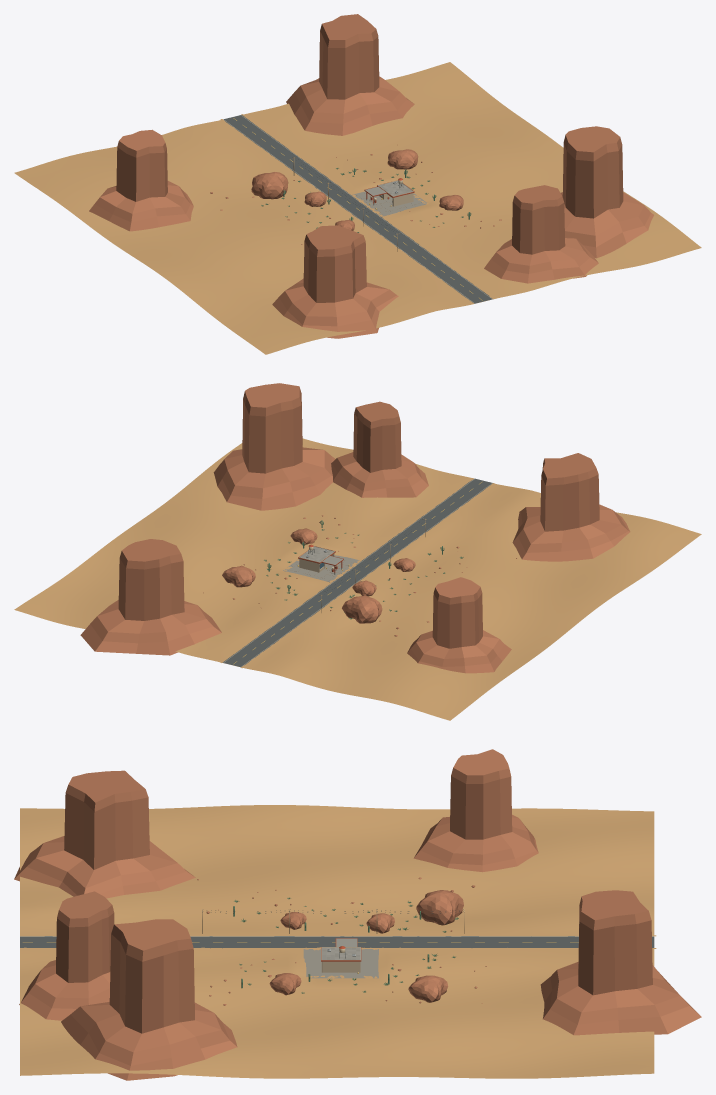
The model's file is station-study.fbx.
3 renders of one model, top to bottom at view 1: azimuth 30°, elevation 25°; view 2: azimuth 150°, elevation 25°; view 3: azimuth 270°, elevation 25°, orthographic. The views are drawn at different scales.
Visible parts, largest first — view 1: GEO-sand_ground, GEO-sandstone_formation.009, GEO-sandstone_formation.005, GEO-sandstone_formation.007, GEO-sandstone_formation.006, GEO-sandstone_formation.008, GEO-asphalt_road, GEO-sandstone_formation.003, GEO-station_apron, GEO-sandstone_formation.004; view 2: GEO-sand_ground, GEO-sandstone_formation.007, GEO-sandstone_formation.009, GEO-sandstone_formation.005, GEO-sandstone_formation.006, GEO-sandstone_formation.008, GEO-asphalt_road, GEO-sandstone_formation.003, GEO-station_apron, GEO-sandstone_formation.004, GEO-sand_drift_shoulder; view 3: GEO-sand_ground, GEO-sandstone_formation.007, GEO-sandstone_formation.009, GEO-sandstone_formation.005, GEO-sandstone_formation.008, GEO-sandstone_formation.006, GEO-asphalt_road, GEO-sandstone_formation.003, GEO-station_apron, GEO-sandstone_formation.004, GEO-sand_drift_shoulder, GEO-sandstone_formation.002.
Boxes of the visible parts, <box> form: GEO-sand_ground: <box>14,62,701,354</box>; GEO-sandstone_formation.009: <box>286,14,414,135</box>; GEO-sandstone_formation.005: <box>272,225,398,338</box>; GEO-sandstone_formation.007: <box>560,126,653,258</box>; GEO-sandstone_formation.006: <box>484,185,598,283</box>; GEO-sandstone_formation.008: <box>89,129,193,231</box>; GEO-asphalt_road: <box>223,115,493,303</box>; GEO-sandstone_formation.003: <box>251,172,288,199</box>; GEO-station_apron: <box>351,191,426,216</box>; GEO-sandstone_formation.004: <box>387,149,418,169</box>; GEO-sand_ground: <box>14,438,701,720</box>; GEO-sandstone_formation.007: <box>213,383,335,510</box>; GEO-sandstone_formation.009: <box>80,539,221,655</box>; GEO-sandstone_formation.005: <box>512,453,630,561</box>; GEO-sandstone_formation.006: <box>331,401,428,497</box>; GEO-sandstone_formation.008: <box>407,577,511,673</box>; GEO-asphalt_road: <box>222,478,492,667</box>; GEO-sandstone_formation.003: <box>342,595,382,623</box>; GEO-station_apron: <box>283,555,359,582</box>; GEO-sandstone_formation.004: <box>222,565,255,587</box>; GEO-sand_drift_shoulder: <box>241,483,494,668</box>; GEO-sand_ground: <box>20,805,654,1078</box>; GEO-sandstone_formation.007: <box>61,919,237,1080</box>; GEO-sandstone_formation.009: <box>540,890,701,1035</box>; GEO-sandstone_formation.005: <box>14,770,195,898</box>; GEO-sandstone_formation.008: <box>413,749,538,872</box>; GEO-sandstone_formation.006: <box>19,891,114,1020</box>; GEO-asphalt_road: <box>20,936,654,948</box>; GEO-sandstone_formation.003: <box>416,890,463,925</box>; GEO-station_apron: <box>303,949,378,978</box>; GEO-sandstone_formation.004: <box>408,975,448,1002</box>; GEO-sand_drift_shoulder: <box>20,935,656,936</box>; GEO-sandstone_formation.002: <box>269,973,301,995</box>.
Bounding box in the file's own units: 160 × 32.03 × 173.
